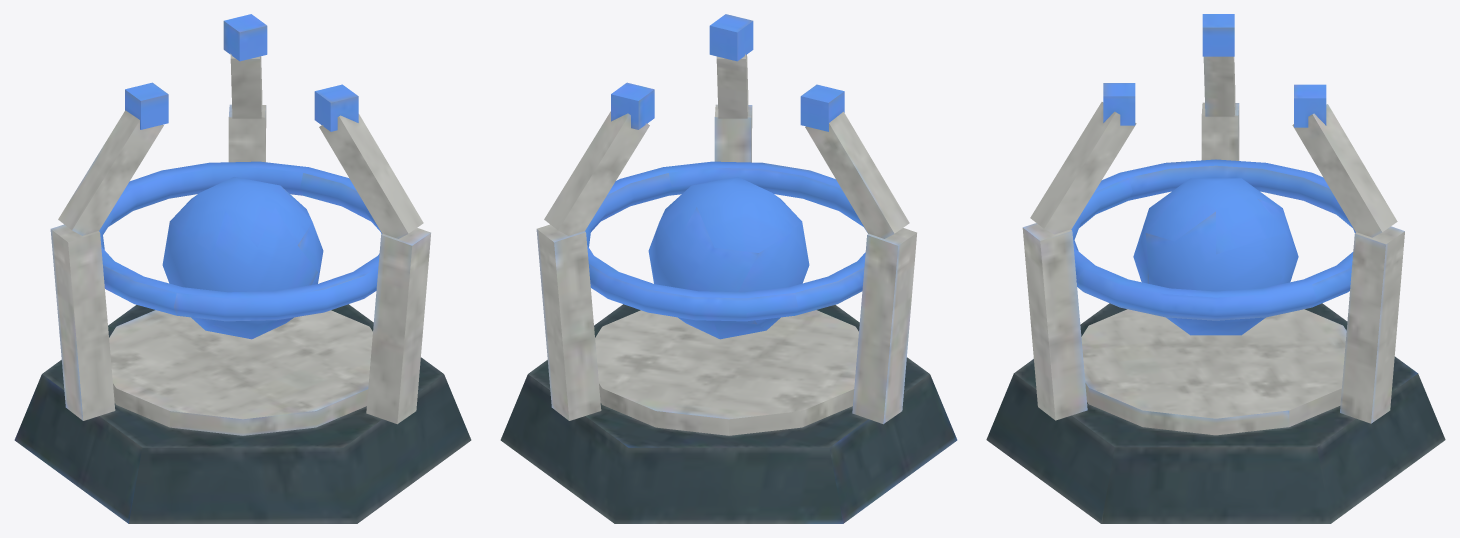
Rendered from shield_emitter.glb.
3 views of the same model, side by side, from view 1: azimuth 30°, elevation 25°; view 2: azimuth 150°, elevation 25°; view 3: azimuth 270°, elevation 25° (orthographic).
Visible parts, largest first — view 1: te_res_shield_emitter; view 2: te_res_shield_emitter; view 3: te_res_shield_emitter.
Boxes of the visible parts, x1,y1,x2,y2 form: te_res_shield_emitter: (14, 14, 471, 523); te_res_shield_emitter: (500, 14, 957, 523); te_res_shield_emitter: (986, 14, 1445, 523).
Bounding box in the file's own units: 0.4458 × 0.4475 × 0.5.
Materials: 1 (1 with a texture image).
